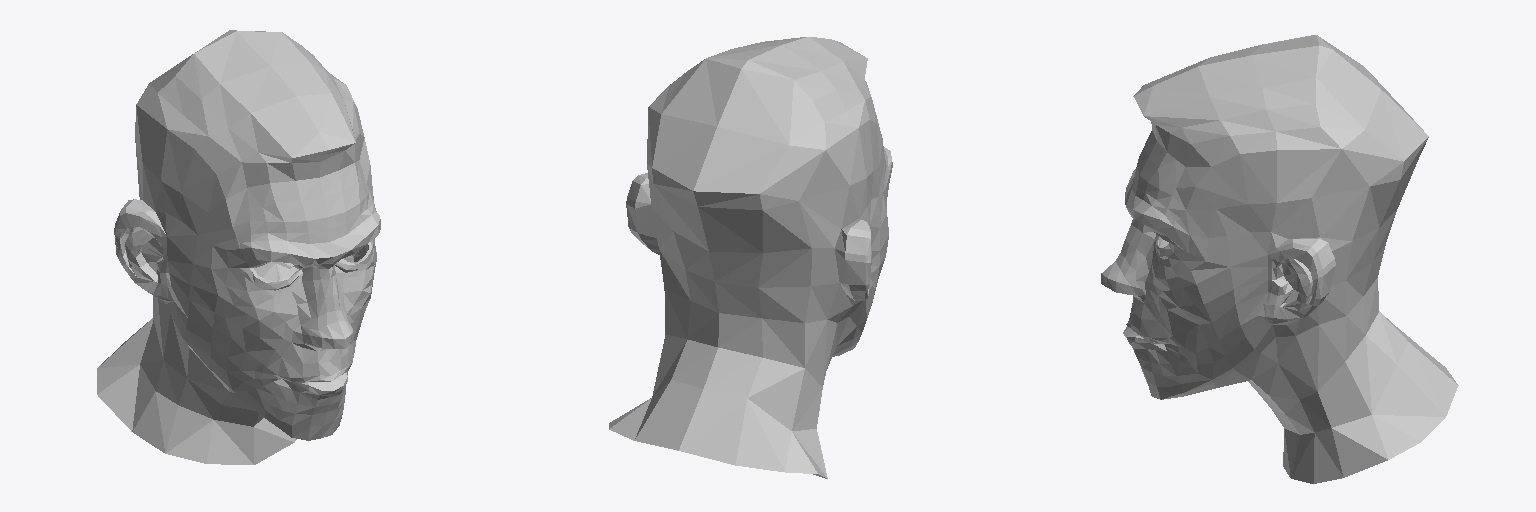
Rendered from scout.obj.
The picture shows the model from 3 angles: view 1: azimuth 30°, elevation 25°; view 2: azimuth 150°, elevation 25°; view 3: azimuth 270°, elevation 25°; orthographic projection.
Visible parts, largest first — view 1: scout group1; view 2: scout group1; view 3: scout group1.
Boxes of the visible parts, x1=… form: scout group1: x1=97, y1=30, x2=380, y2=464; scout group1: x1=609, y1=37, x2=892, y2=478; scout group1: x1=1101, y1=35, x2=1458, y2=483.
Bounding box in the file's own units: 8.1 × 13.35 × 10.26.